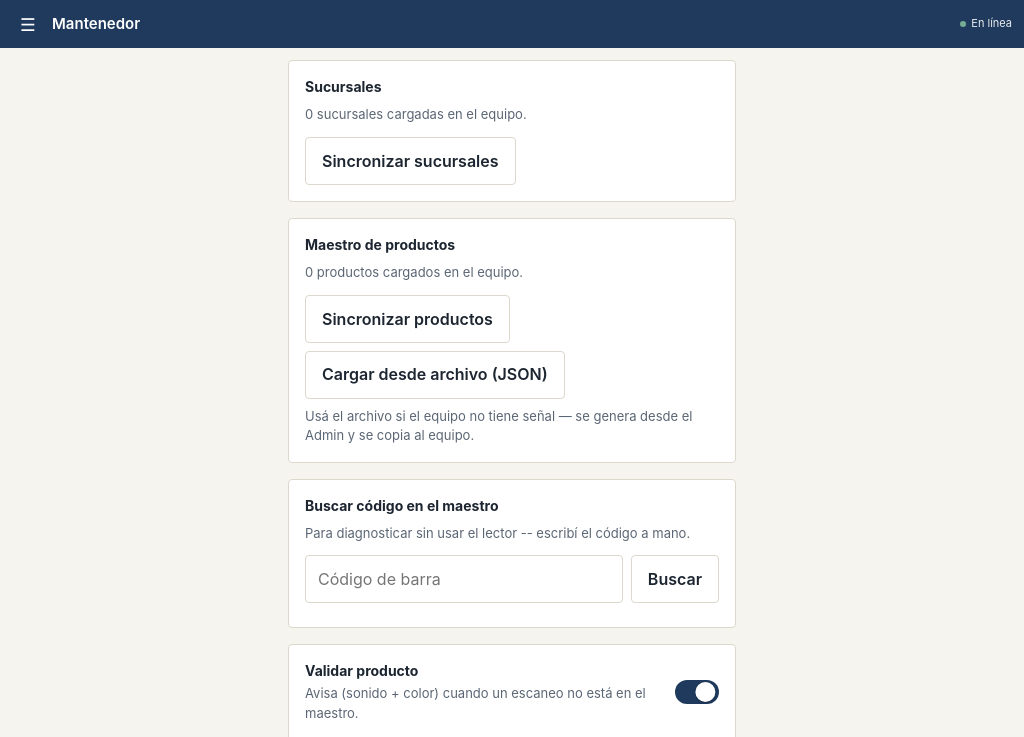
Test case: MantenedorPage › buscar código avisa cuando no está en el maestro local, mostrando el valor tal cual se tipeó
Type "000000000000" into the field with placeholder "Código de barra" at (464, 579), box [305,555,623,603]
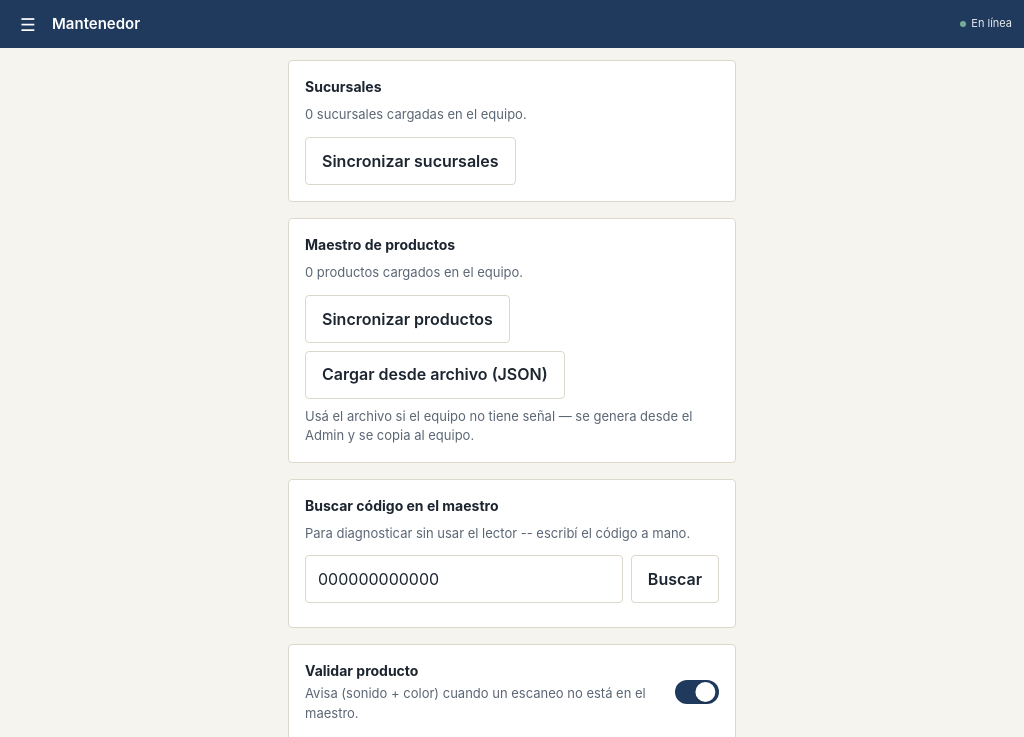
Click the button "Buscar" at (675, 579), box [631,555,719,603]
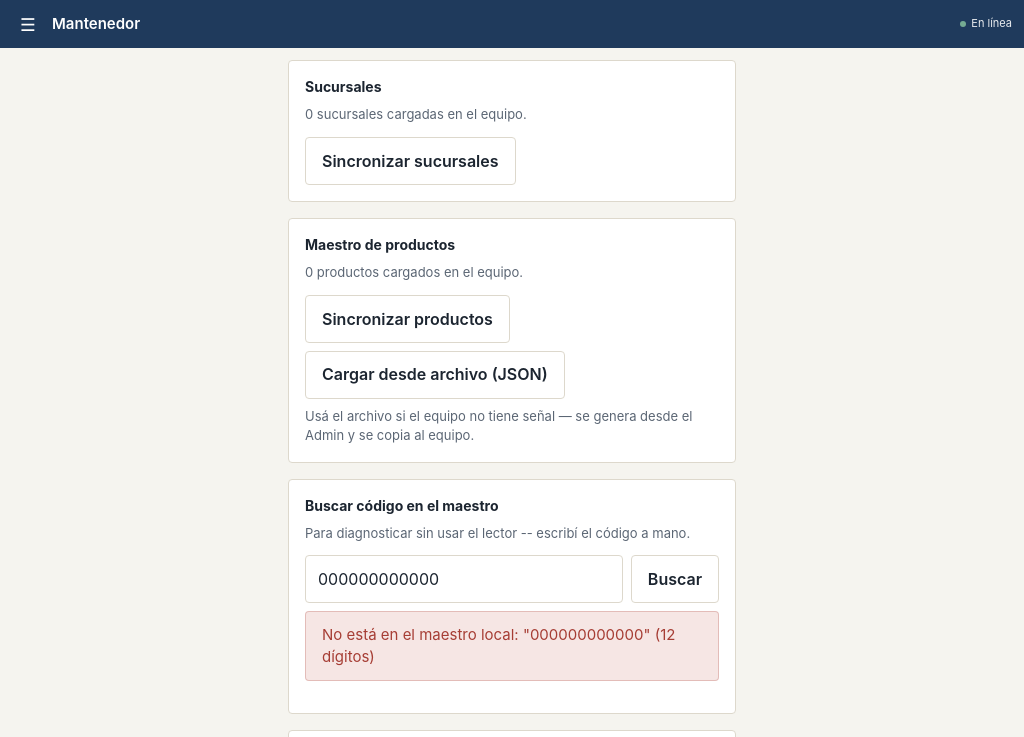
Result: the message reads "No está en el maestro local: \"000000000000\" (12 dígitos)" at [305,611,719,681]
